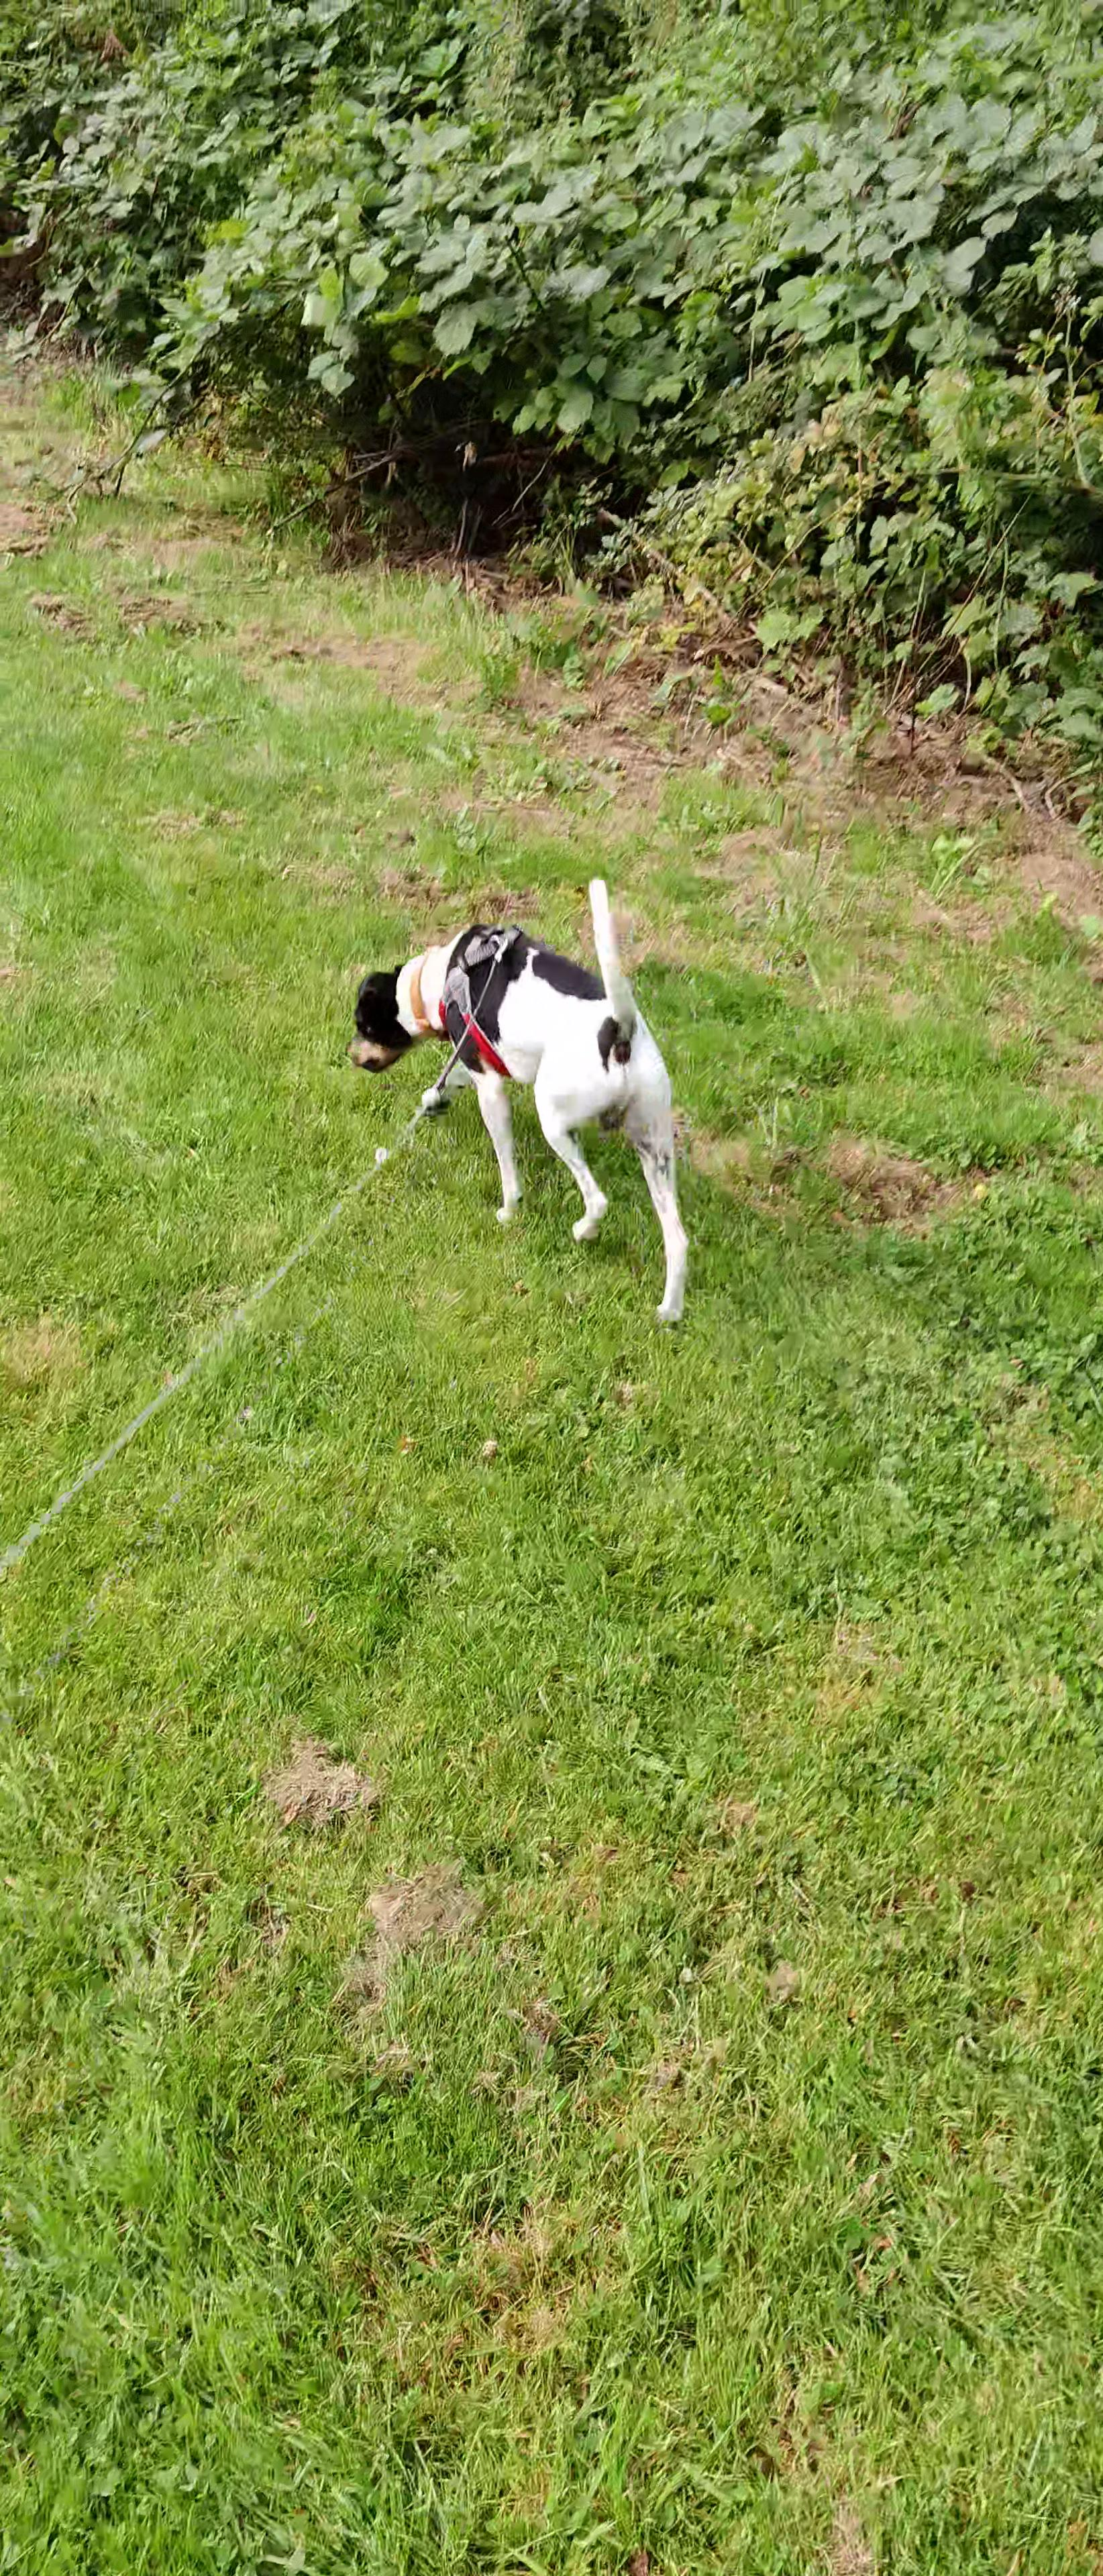Dog: (325, 843, 710, 1355)
